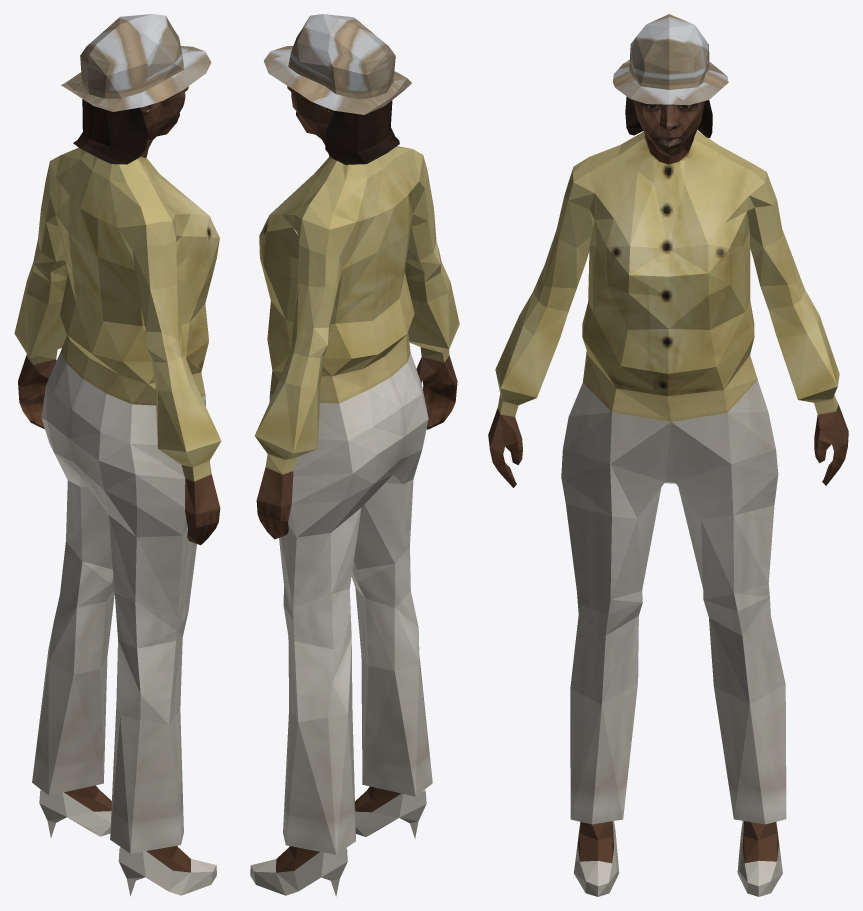
Rendered from sbfori.obj.
3 views of the same model, side by side, from view 1: azimuth 30°, elevation 25°; view 2: azimuth 150°, elevation 25°; view 3: azimuth 270°, elevation 25° (orthographic). The views are drawn at different scales.
Visible parts, largest first — view 1: _Pelvis; view 2: _Pelvis; view 3: _Pelvis.
Part boxes in pixels (x1,y1,x2,y2): _Pelvis: (14, 14, 221, 896); _Pelvis: (250, 14, 459, 896); _Pelvis: (488, 14, 848, 896).
Size of the model in its own units: 0.3027 by 1.8 by 0.6856.
1 material, 1 textured.
